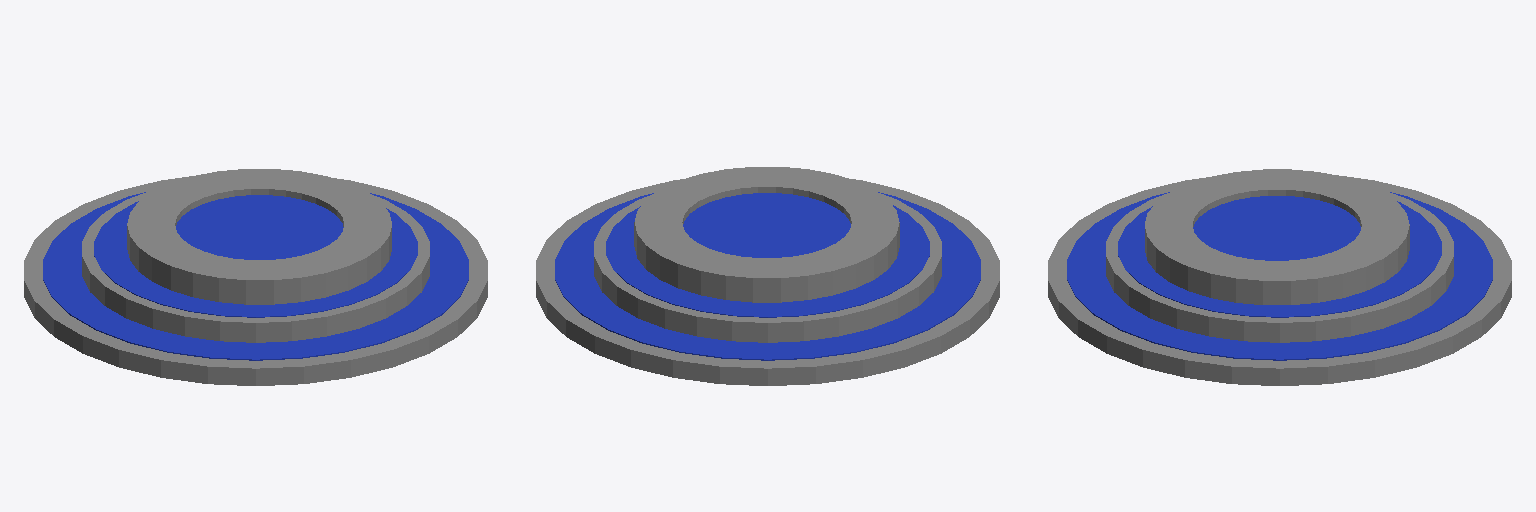
Rendered from fountain.obj.
3 renders of one model, left to right at view 1: azimuth 30°, elevation 25°; view 2: azimuth 150°, elevation 25°; view 3: azimuth 270°, elevation 25°, orthographic.
Parts seen in each view (by area): view 1: Tube01, Cylinder01, Cylinder04, Cylinder02, Cylinder03, Cylinder05; view 2: Tube01, Cylinder01, Cylinder04, Cylinder02, Cylinder03, Cylinder05; view 3: Tube01, Cylinder01, Cylinder04, Cylinder02, Cylinder03, Cylinder05.
Part boxes in pixels (x1,y1,x2,y2): Tube01: (127,169,391,304); Cylinder01: (24,176,487,385); Cylinder04: (43,192,468,360); Cylinder02: (82,188,429,342); Cylinder03: (176,195,343,259); Cylinder05: (94,201,417,317); Tube01: (634,167,899,302); Cylinder01: (536,178,999,385); Cylinder04: (555,192,980,360); Cylinder02: (594,193,941,342); Cylinder03: (683,193,850,257); Cylinder05: (606,205,929,317); Tube01: (1145,169,1409,304); Cylinder01: (1048,175,1511,385); Cylinder04: (1067,192,1492,360); Cylinder02: (1106,188,1453,342); Cylinder03: (1193,196,1360,260); Cylinder05: (1118,201,1441,317).
Bounding box in the file's own units: 11.13 × 1.69 × 11.07.